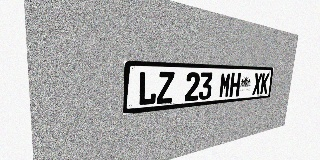2: (185, 72, 200, 101)
3: (198, 72, 213, 100)
H: (229, 73, 241, 97)
K: (260, 73, 270, 94)
L: (137, 71, 157, 106)
M: (218, 72, 231, 98)
X: (252, 73, 262, 95)
Z: (156, 72, 175, 104)
